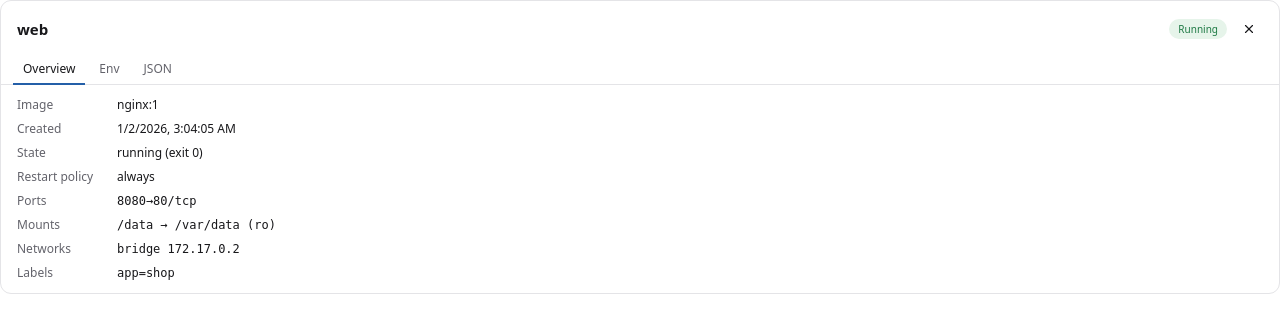
Test: ContainerDetailsPanel › env values are hidden until that row's eye is pressed; other rows stay hidden
Expected: the text "nginx:1" is shown, [117,96,159,113]
Click the tab "Env" at [110, 70], box [89,55,130,85]
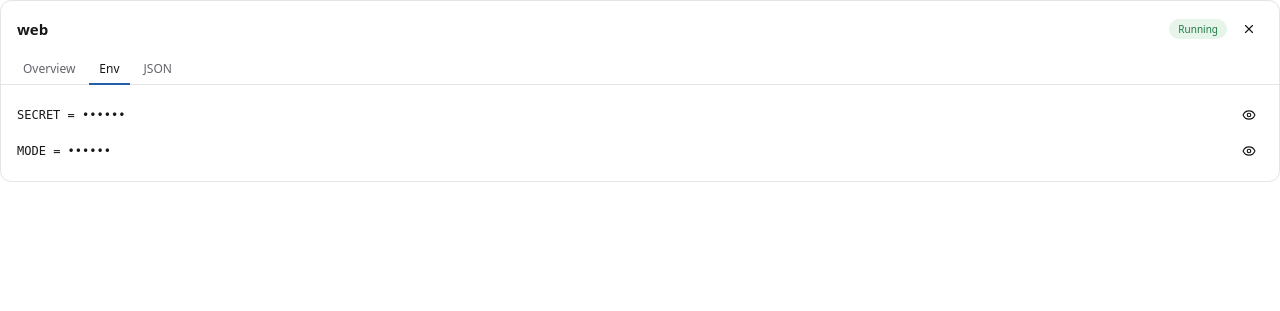
Expected: the text "hunter2" is not shown
Now the text "••••••" is shown 2 times, box [82,108,125,122]; [68,144,111,158]
Click the button named "Show SECRET" at [1249, 115], box [1235,101,1263,129]
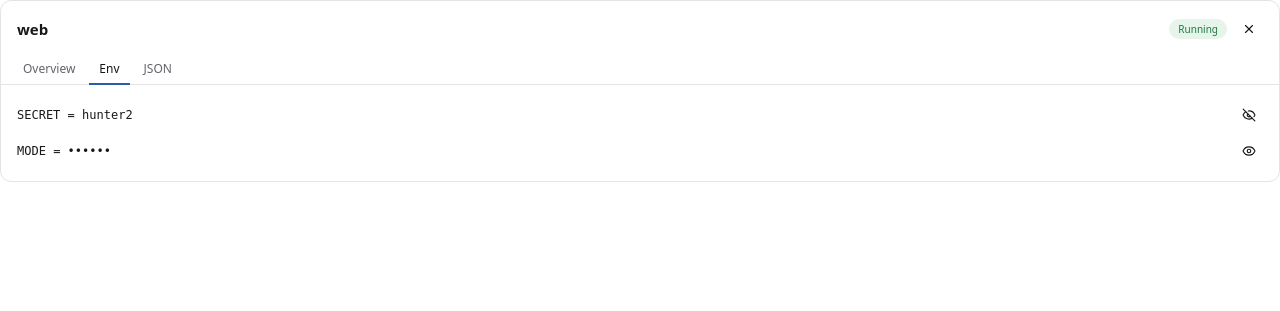
Now the text "hunter2" is shown, box [82,108,133,122]
Click the button named "Hide SECRET" at [1249, 115], box [1235,101,1263,129]
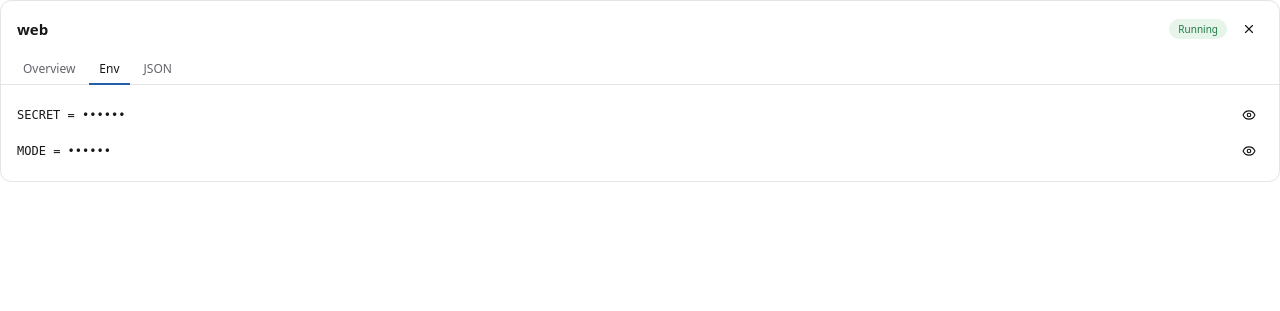
Now the text "hunter2" is gone
